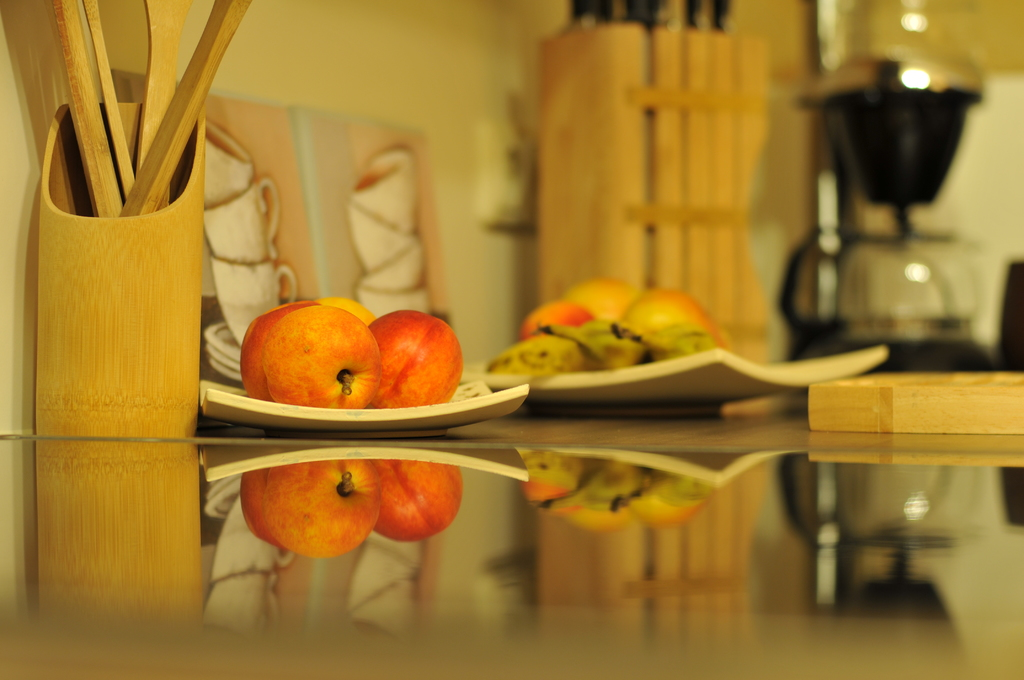Apple: (267, 305, 381, 409), (368, 310, 462, 407), (236, 297, 317, 396), (624, 286, 726, 352), (556, 280, 632, 319), (524, 301, 591, 334)
